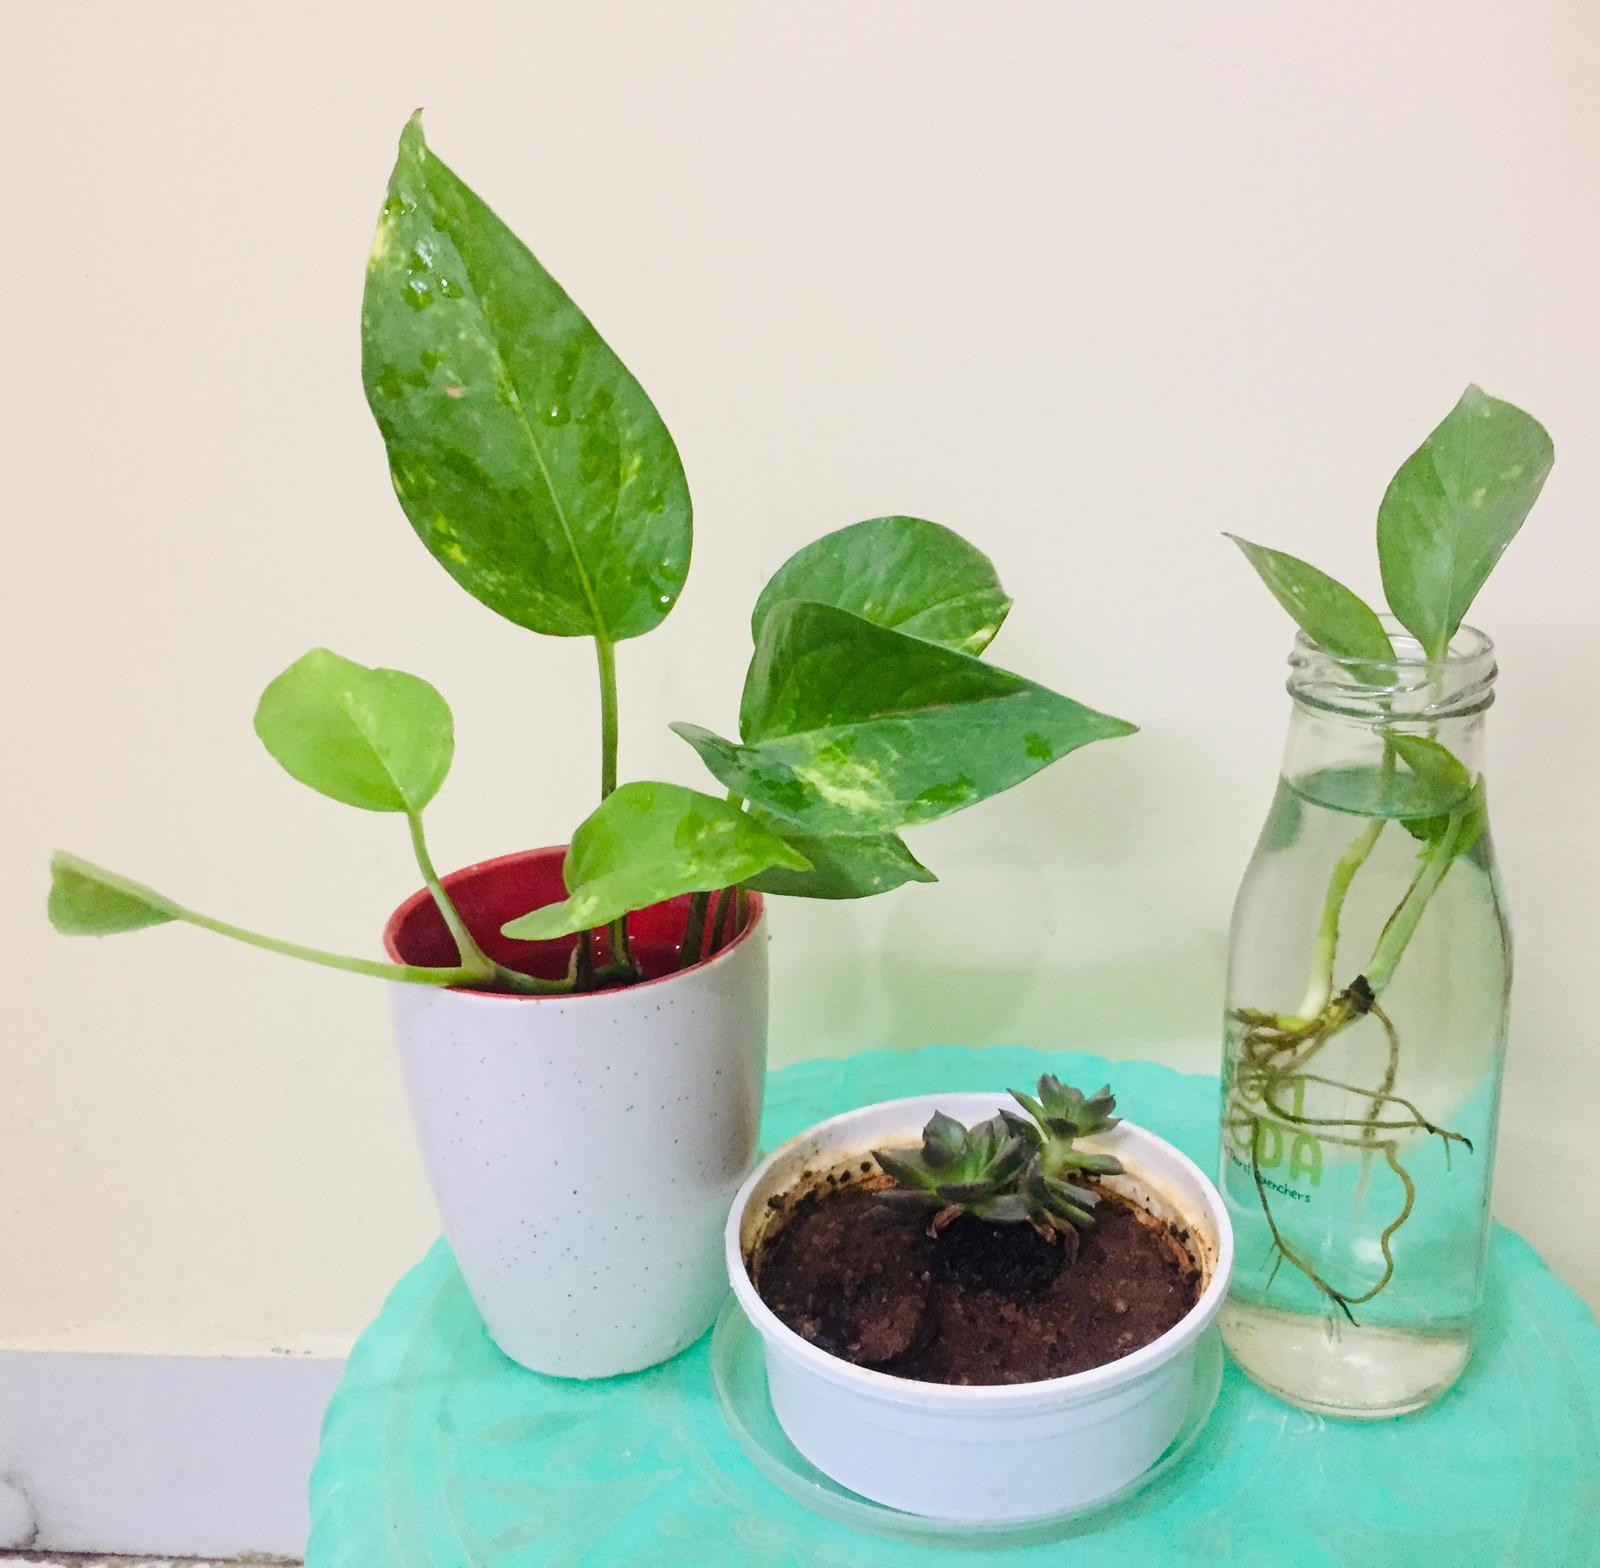plants: (22, 108, 1135, 1042), (1215, 375, 1563, 1333), (865, 1065, 1175, 1249)
